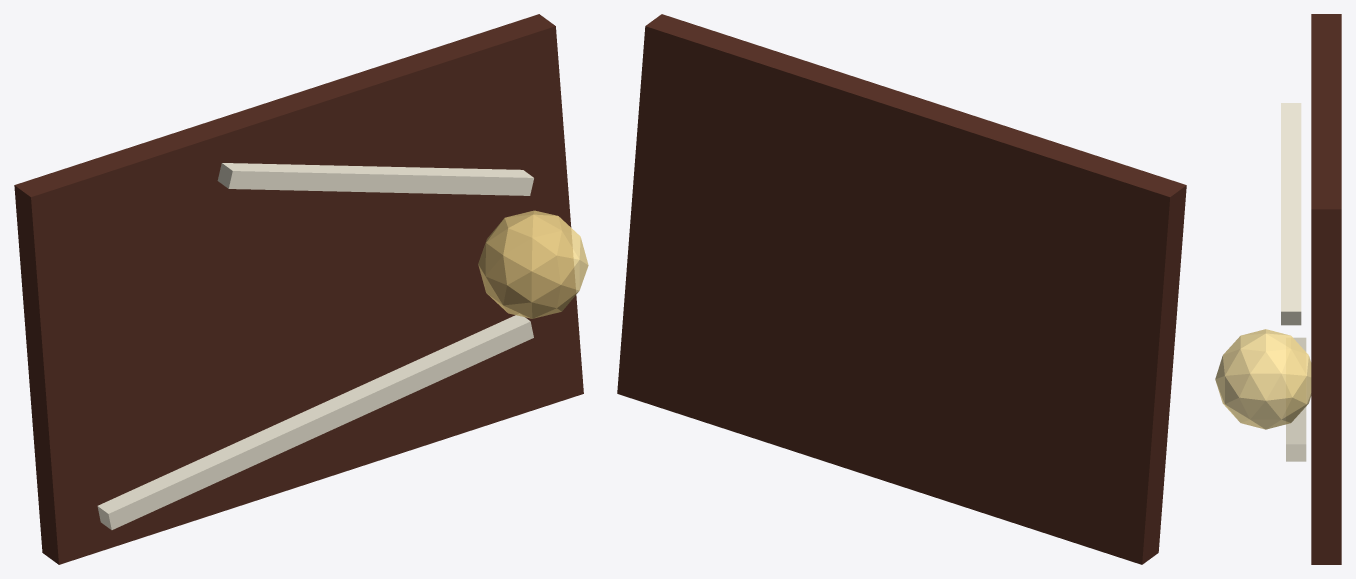
File: 02_world_prop_polish.glb
3 renders of one model, left to right at view 1: azimuth 30°, elevation 25°; view 2: azimuth 150°, elevation 25°; view 3: azimuth 270°, elevation 25°, orthographic. The views are drawn at different scales.
Visible parts, largest first — view 1: object_overlay_plate, edge_wear_a, glow_socket, edge_wear_b; view 2: object_overlay_plate; view 3: object_overlay_plate, glow_socket, edge_wear_b, edge_wear_a.
Part boxes in pixels (left/top/right/bottom): object_overlay_plate: left=14, top=14, right=583, bottom=564; edge_wear_a: left=97, top=314, right=533, bottom=529; glow_socket: left=478, top=210, right=588, bottom=318; edge_wear_b: left=217, top=163, right=533, bottom=195; object_overlay_plate: left=617, top=14, right=1186, bottom=564; object_overlay_plate: left=1311, top=14, right=1341, bottom=564; glow_socket: left=1215, top=329, right=1311, bottom=429; edge_wear_b: left=1281, top=103, right=1301, bottom=325; edge_wear_a: left=1286, top=337, right=1306, bottom=461.
Size of the model in its own units: 1.16 by 0.8337 by 0.25.
